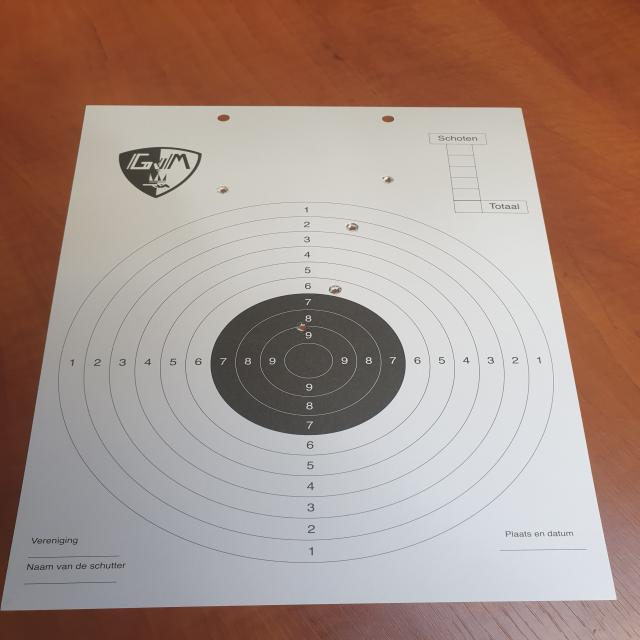10: (294, 321, 310, 334)
3: (345, 222, 360, 232)
7: (326, 284, 344, 296)
Black Contour: (210, 293, 407, 437)
Target: (55, 200, 556, 564)
hole: (215, 184, 230, 194), (382, 176, 394, 184)
